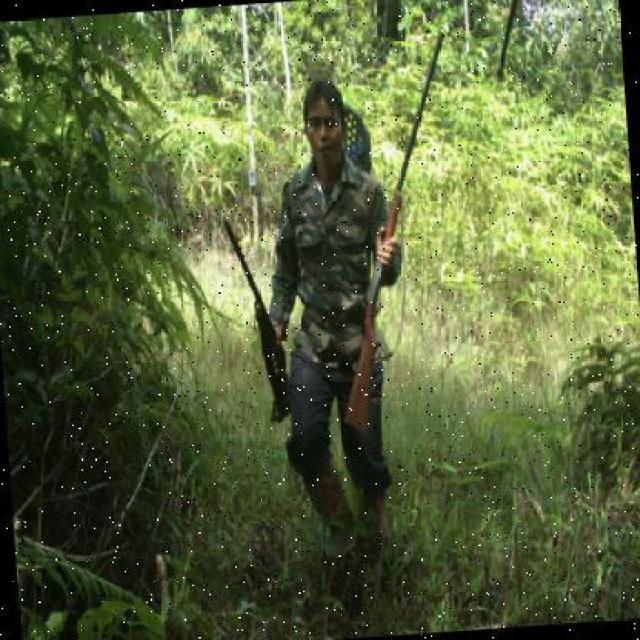Hunter: (237, 28, 436, 584)
Rifle: (332, 12, 477, 448), (224, 185, 290, 442)
